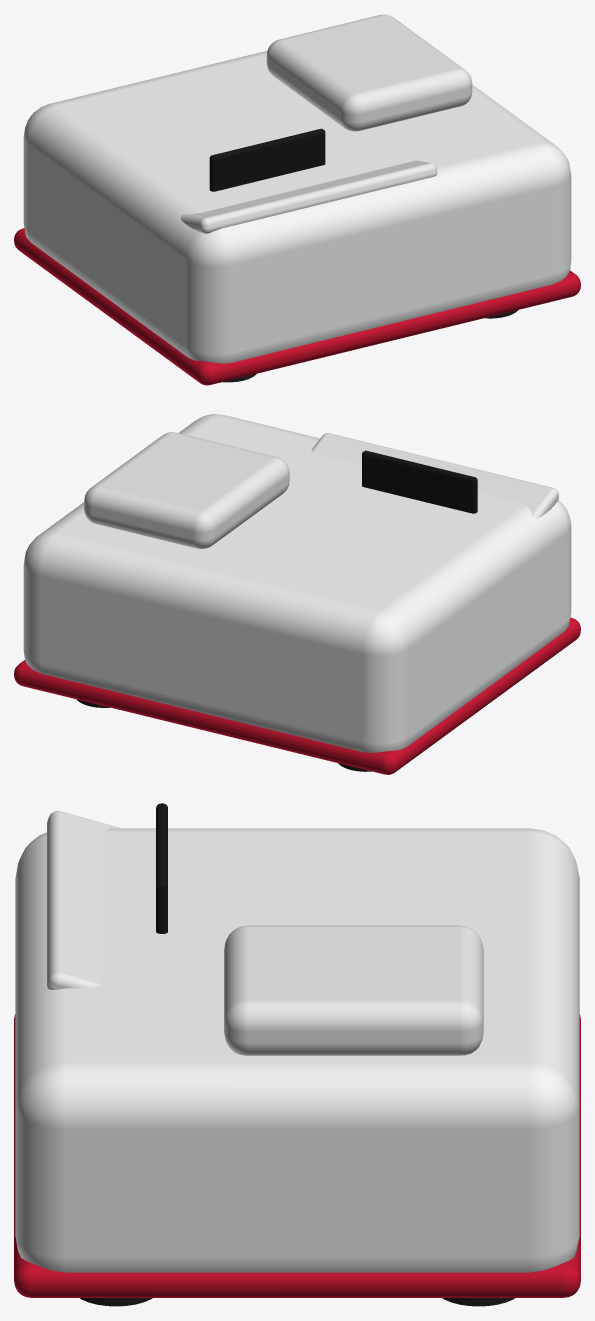
File: rayto-rt-9200.glb
3 renders of one model, top to bottom at view 1: azimuth 30°, elevation 25°; view 2: azimuth 150°, elevation 25°; view 3: azimuth 270°, elevation 25°, orthographic. The views are drawn at different scales.
Size of the model in its own units: 0.3216 by 0.1626 by 0.2814.
